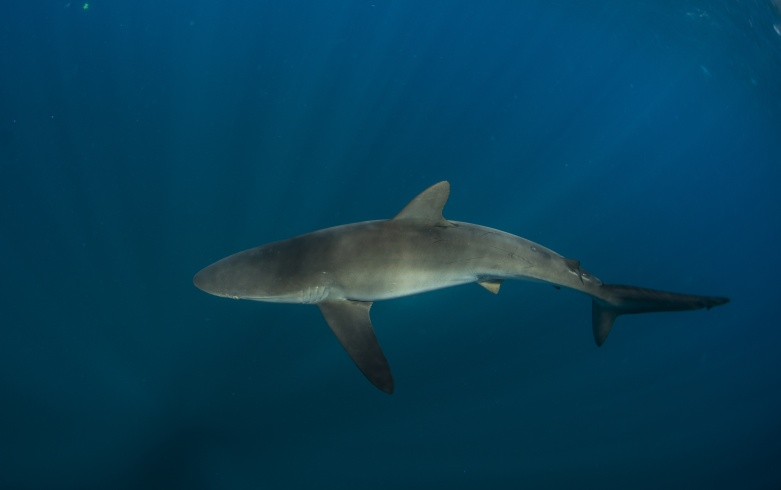Sedoso: (162, 176, 740, 408)
